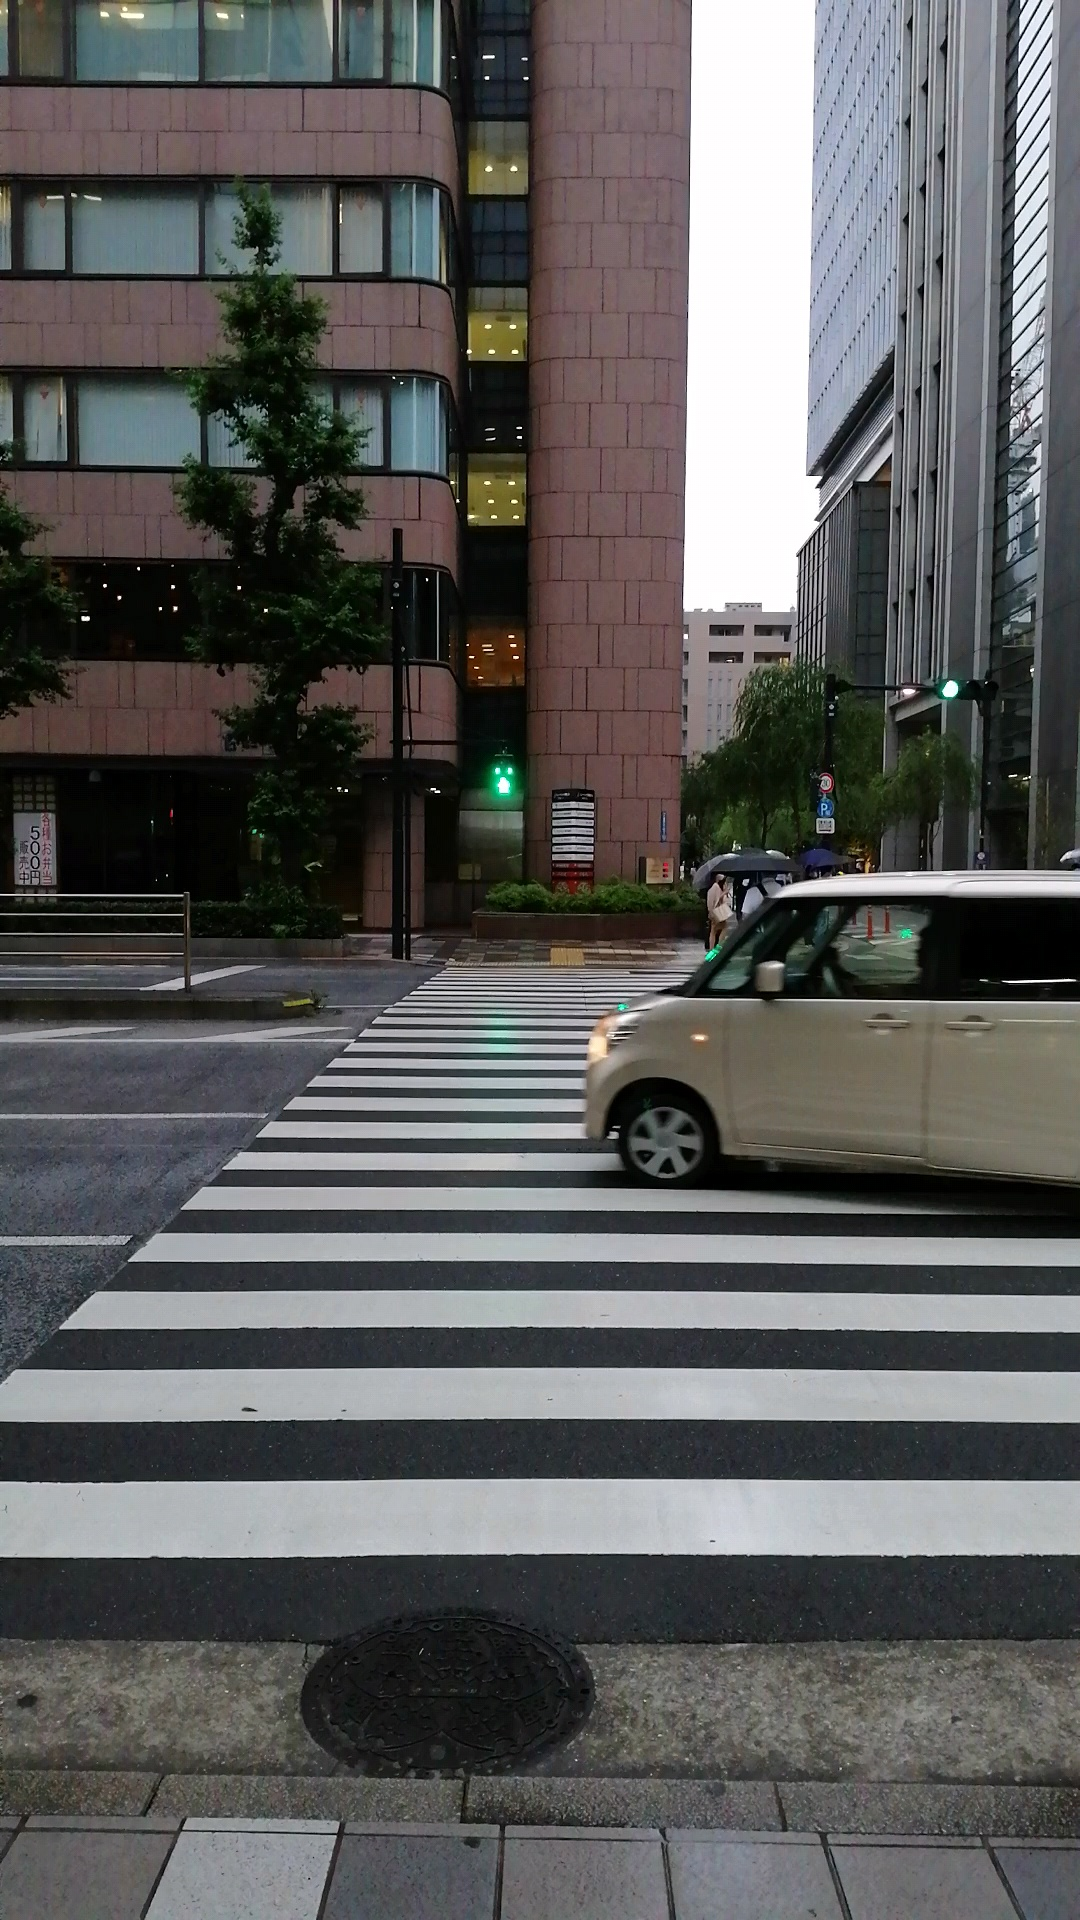green: (491, 754, 517, 798)
